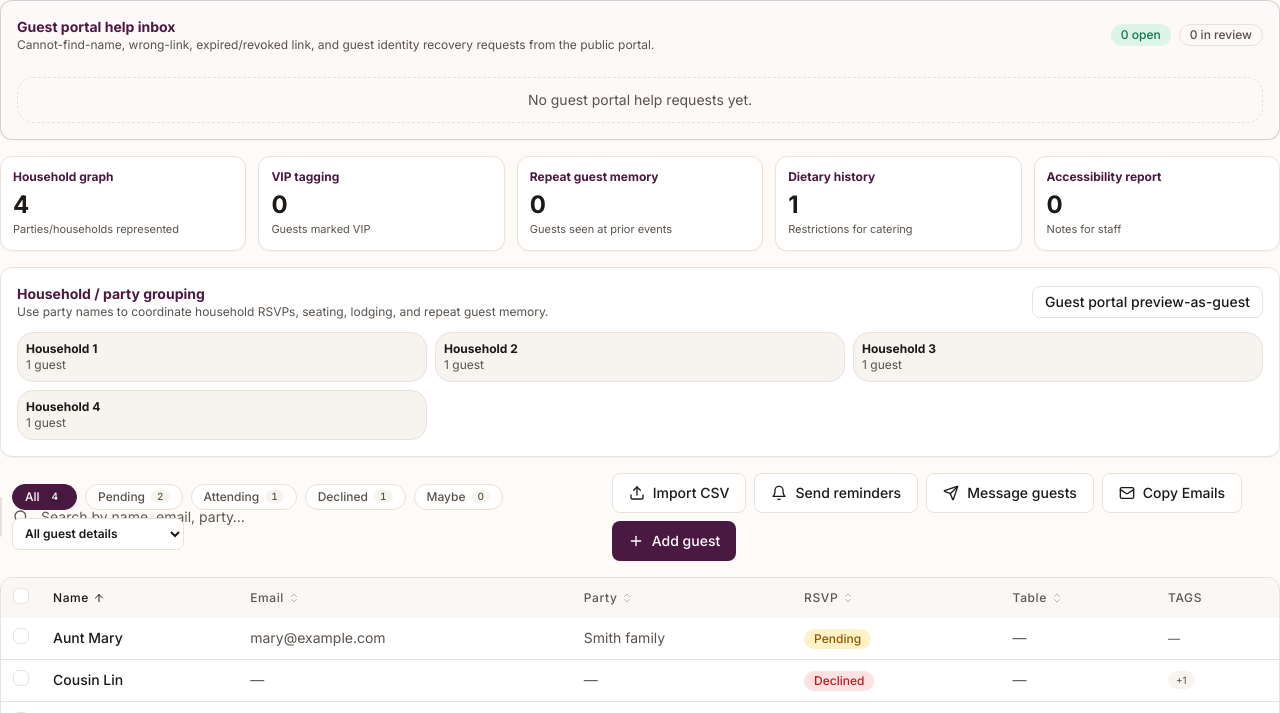
Scenario: EventGuestsTab › clicking a row opens the detail drawer
Click the text "Aunt Mary".
click(88, 638)  # box [41,618,238,659]
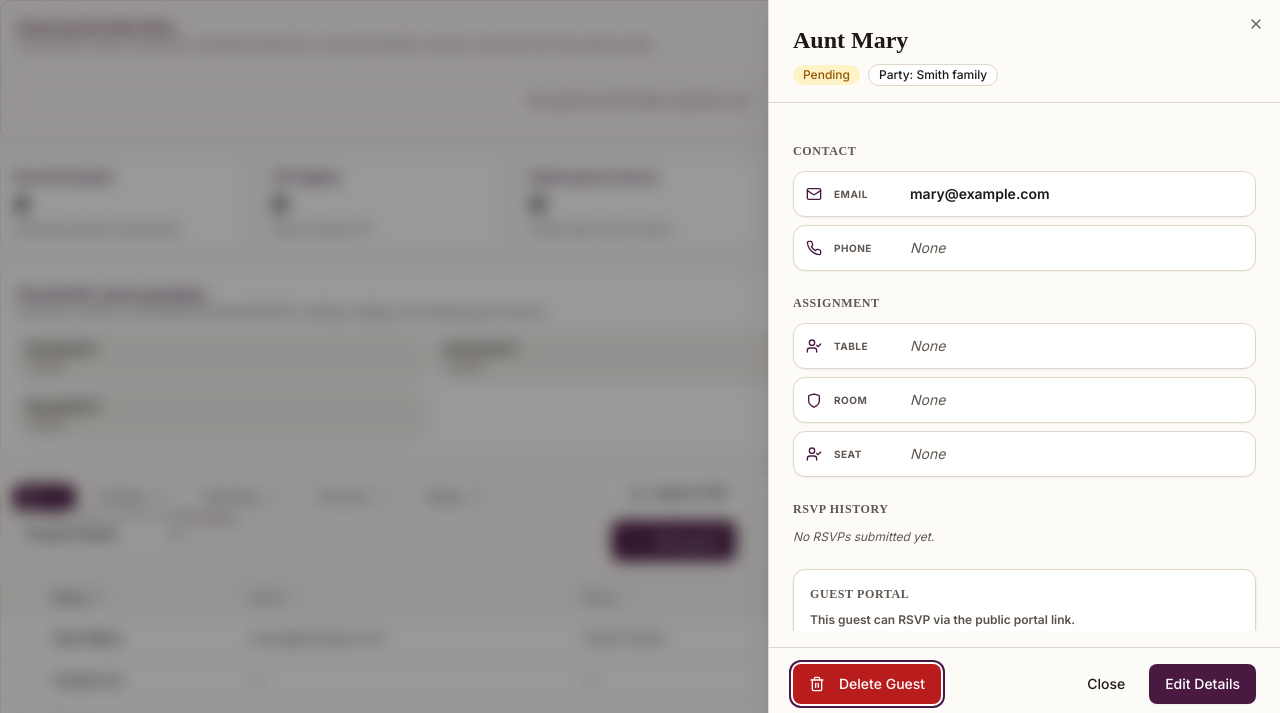
Result: the heading "Aunt Mary" is shown at [793,27,908,53]
